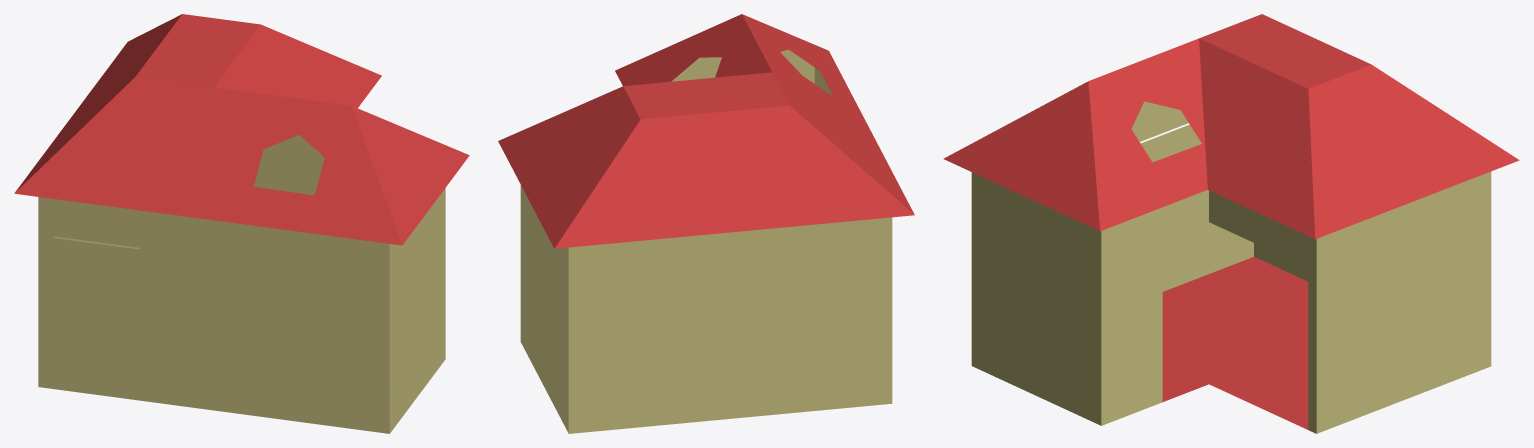
3 views of the same model, side by side, from view 1: azimuth 30°, elevation 25°; view 2: azimuth 150°, elevation 25°; view 3: azimuth 270°, elevation 25° (orthographic). The views are drawn at different scales.
Parts seen in each view (by area): view 1: group_5, group_3, group_10, group_7; view 2: group_5, group_3, group_7, group_10; view 3: group_5, group_3, group_10, group_7, group_6, group_4, group_9.
Part boxes in pixels (x1,y1,x2,y2): group_5: (38, 135, 324, 418); group_3: (14, 14, 381, 227); group_10: (274, 188, 445, 433); group_7: (214, 87, 469, 245); group_5: (520, 185, 892, 433); group_3: (498, 72, 914, 248); group_7: (615, 14, 857, 106); group_10: (671, 49, 832, 96); group_5: (1131, 101, 1491, 433); group_3: (1199, 14, 1519, 239); group_10: (971, 172, 1194, 425); group_7: (943, 38, 1207, 231); group_6: (1162, 257, 1308, 429); group_4: (1208, 161, 1314, 232); group_9: (1101, 167, 1207, 224).
Size of the model in its own units: 23.68 by 28.67 by 16.12.
